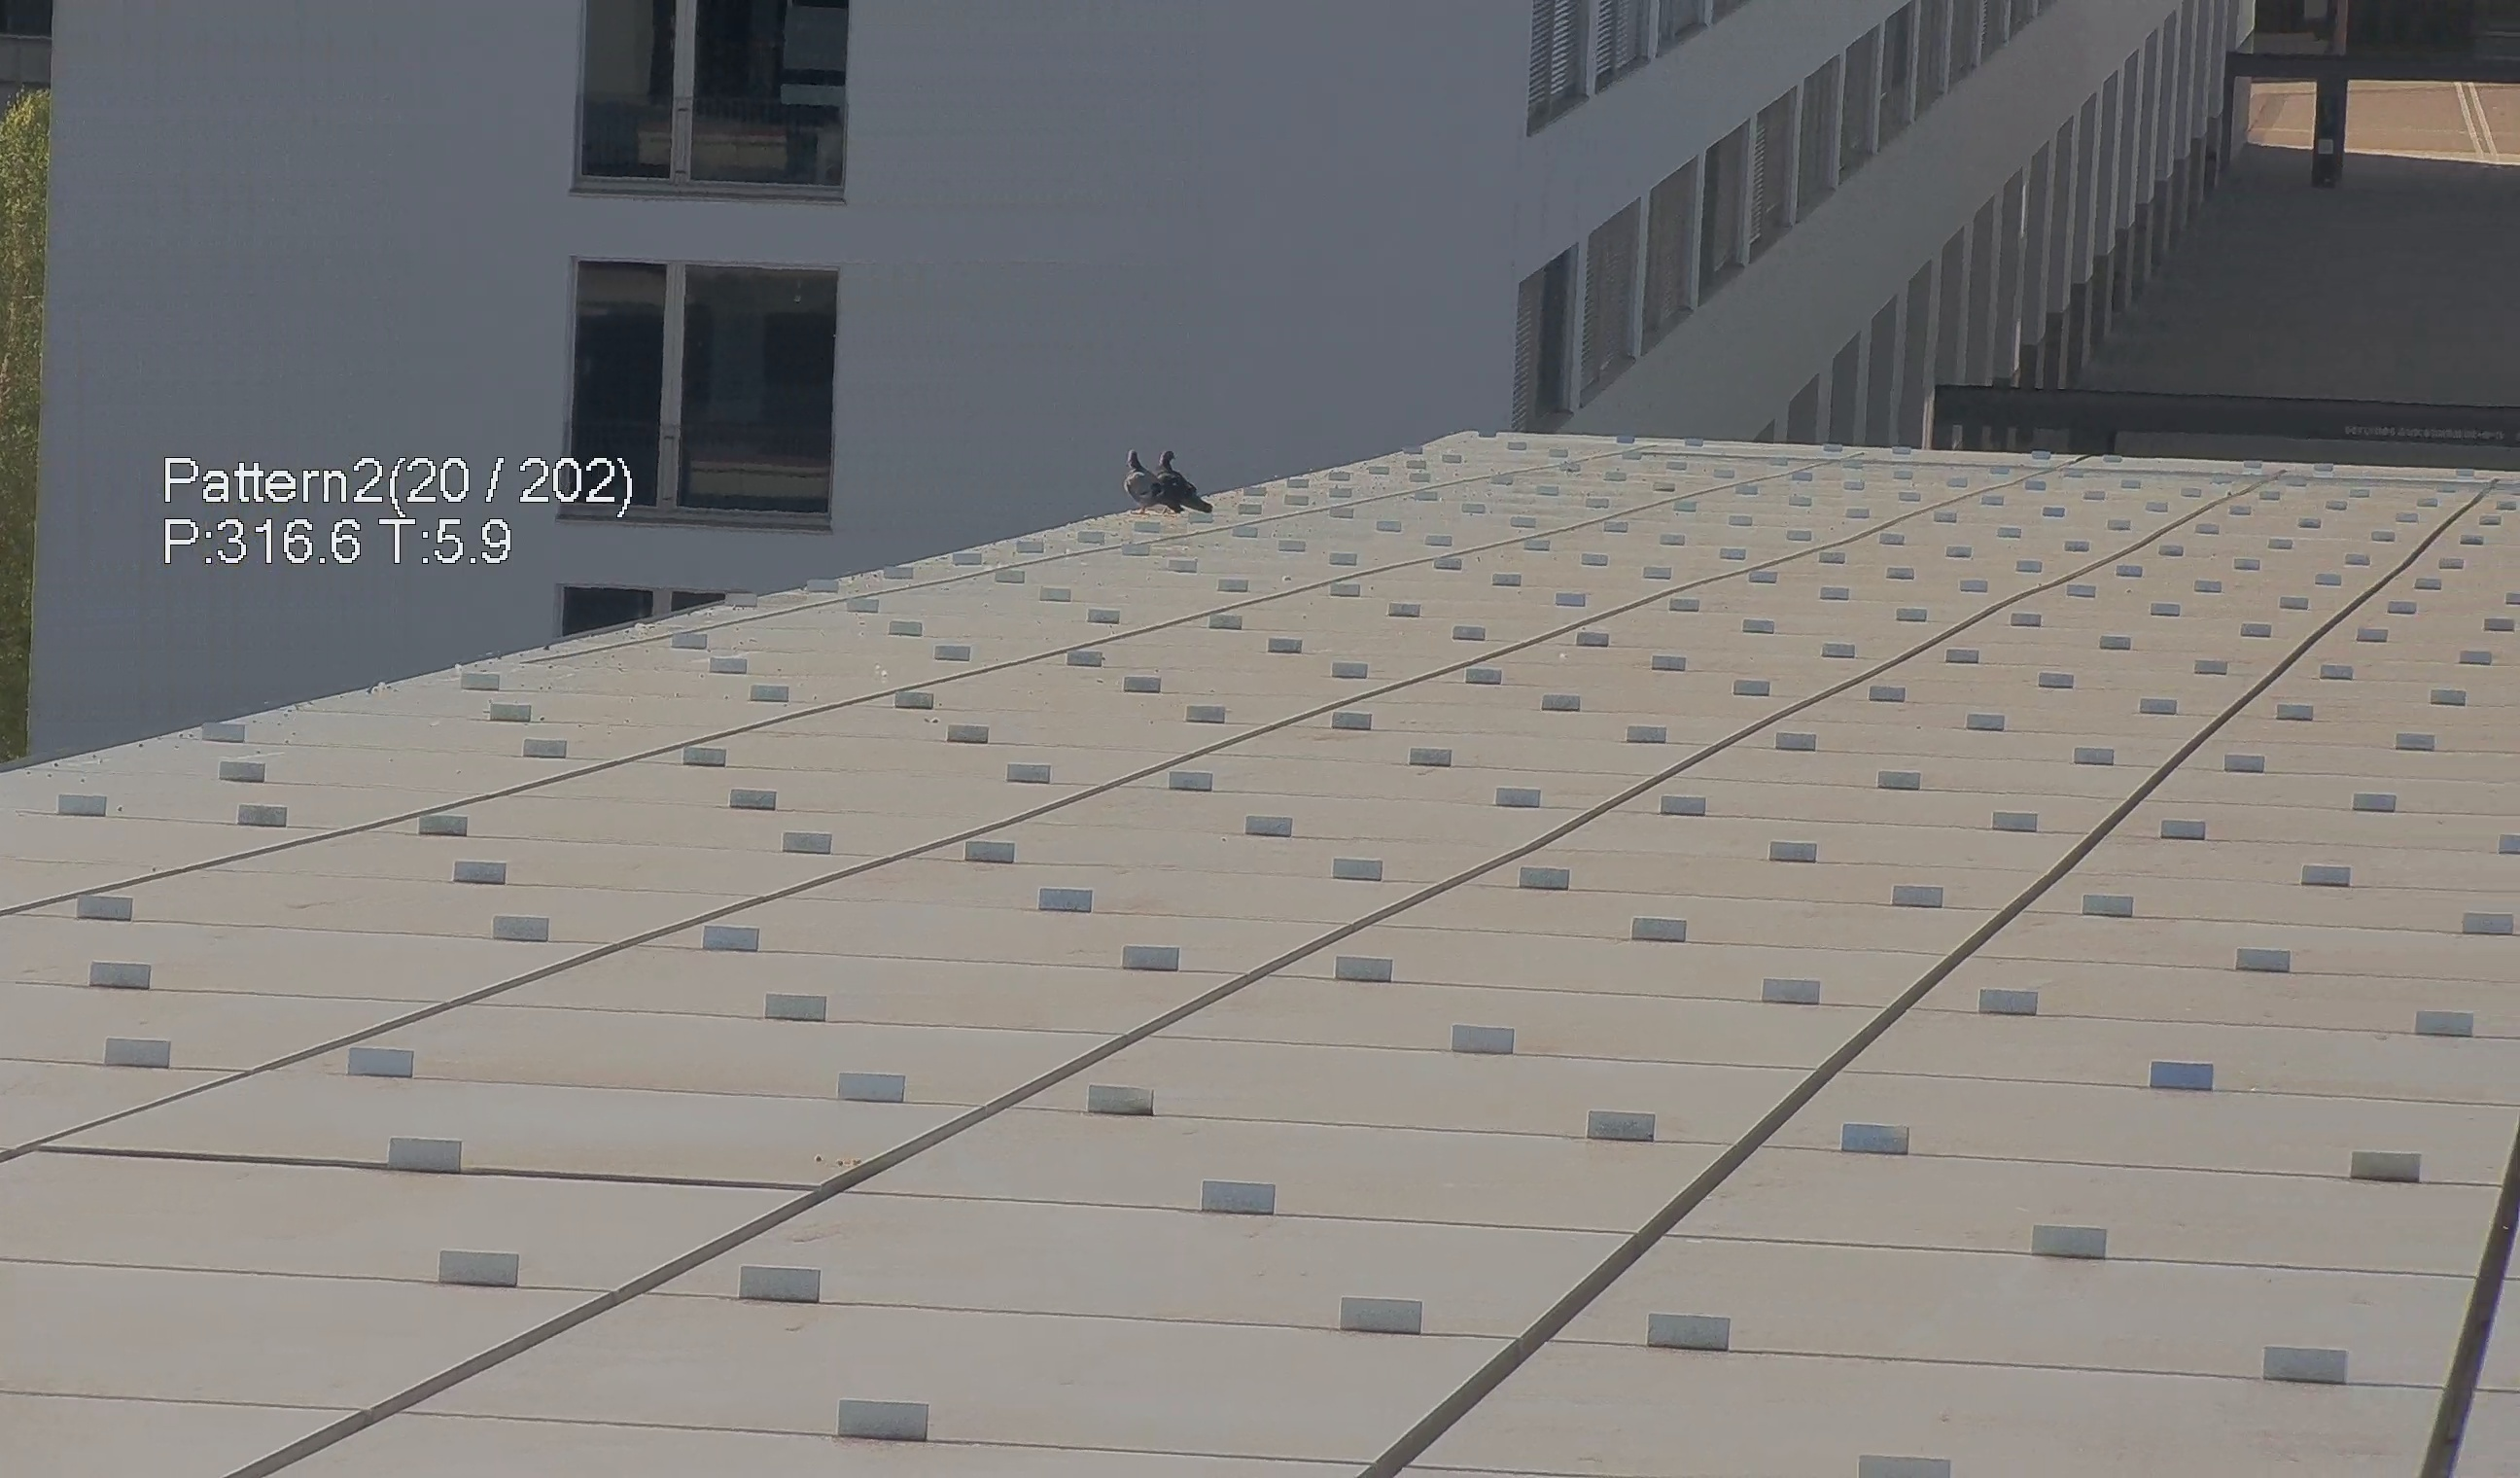Pigeon: (1115, 440, 1212, 519), (1148, 447, 1194, 500)
